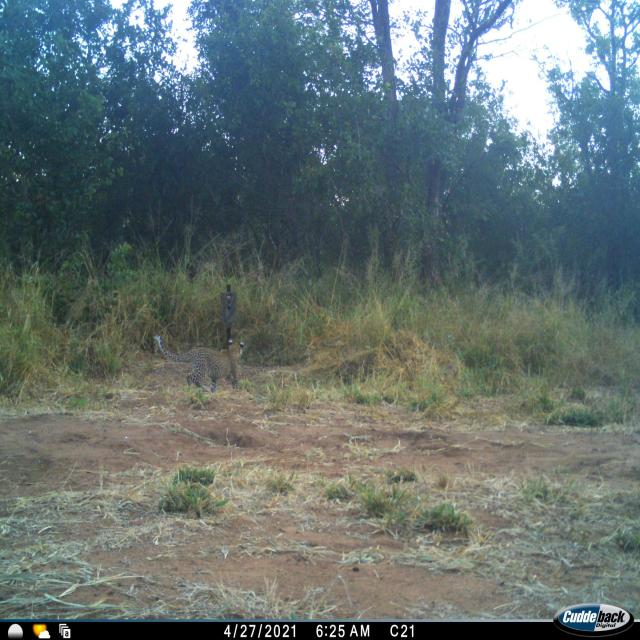Leopard: (176, 333, 233, 398)
